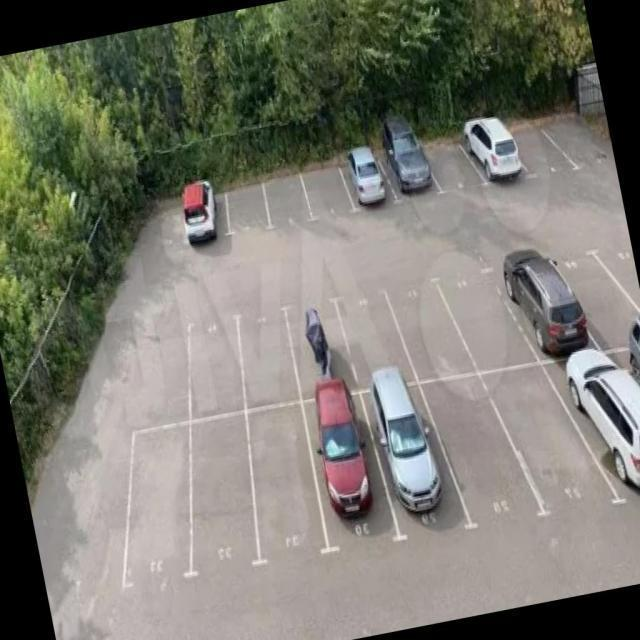space-empty: (492, 355, 611, 541), (422, 362, 539, 537), (108, 419, 216, 580), (243, 397, 337, 575), (189, 411, 271, 581), (444, 250, 534, 377), (561, 233, 640, 350), (335, 275, 413, 393), (393, 269, 469, 382), (183, 305, 252, 415), (542, 89, 616, 189), (232, 304, 301, 405), (419, 122, 493, 208), (512, 102, 577, 197), (300, 159, 358, 238), (263, 167, 316, 237), (226, 179, 276, 240)
space-occupied: (363, 374, 464, 555), (303, 388, 401, 558), (552, 340, 640, 523), (497, 239, 589, 369), (283, 297, 358, 401), (467, 106, 532, 204), (376, 131, 446, 221), (178, 180, 238, 257), (342, 146, 394, 224)
